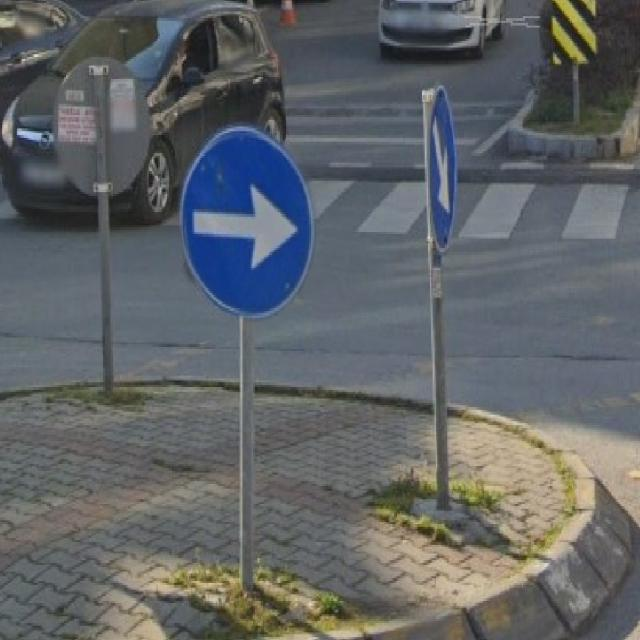Turn Right: (190, 135, 314, 324)
